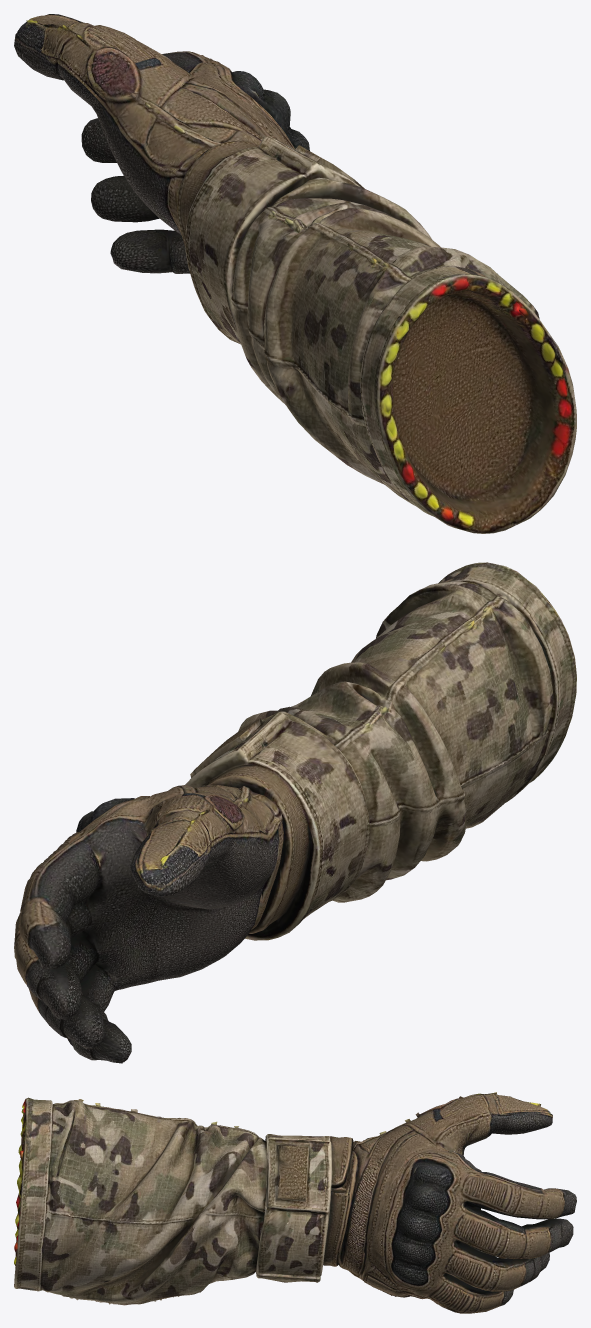
File: arm_l.glb
3 renders of one model, top to bottom at view 1: azimuth 30°, elevation 25°; view 2: azimuth 150°, elevation 25°; view 3: azimuth 270°, elevation 25°, orthographic. The views are drawn at different scales.
Parts seen in each view (by area): view 1: tripo_node_f9bd148d-949f-41fe-876e-54636ab8605e; view 2: tripo_node_f9bd148d-949f-41fe-876e-54636ab8605e; view 3: tripo_node_f9bd148d-949f-41fe-876e-54636ab8605e.
Part boxes in pixels (box(x1,y1,x2,y2)): tripo_node_f9bd148d-949f-41fe-876e-54636ab8605e: box(14, 14, 576, 533); tripo_node_f9bd148d-949f-41fe-876e-54636ab8605e: box(14, 562, 576, 1063); tripo_node_f9bd148d-949f-41fe-876e-54636ab8605e: box(14, 1092, 576, 1313).
Bounding box in the file's own units: 0.3054 × 0.3493 × 0.9788.
1 material, 1 textured.
